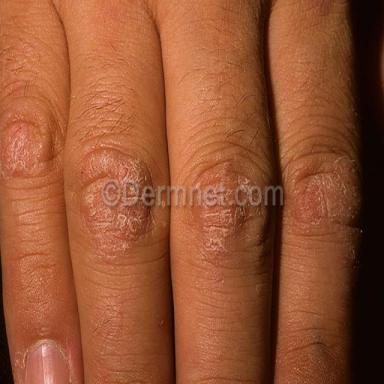Psoriasis: (77, 150, 156, 263), (286, 157, 361, 235), (1, 121, 44, 179)
